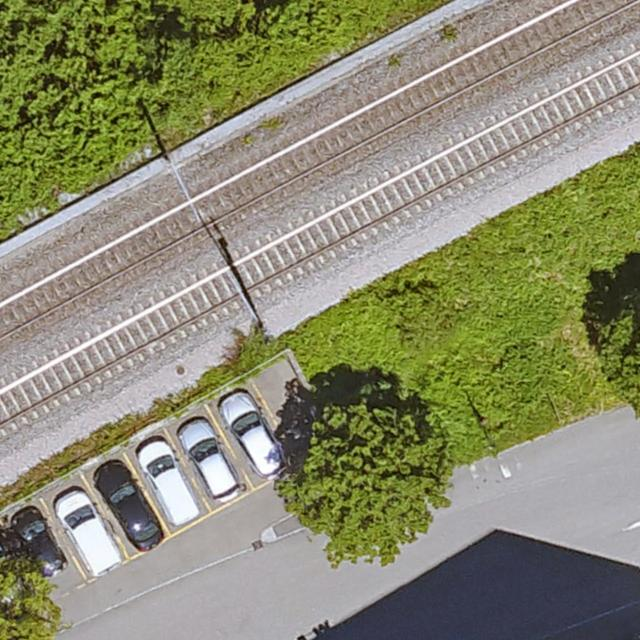tree: (293, 401, 449, 561), (581, 289, 640, 420), (0, 571, 60, 640)
